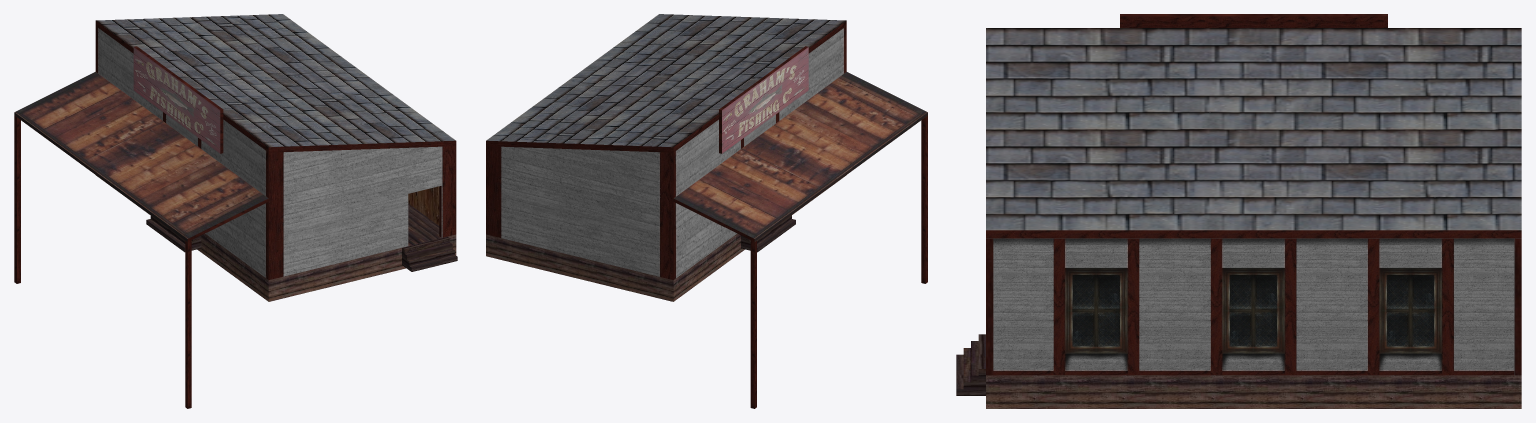
Rendered from fishShack.gltf.
3 views of the same model, side by side, from view 1: azimuth 30°, elevation 25°; view 2: azimuth 150°, elevation 25°; view 3: azimuth 270°, elevation 25° (orthographic). The views are drawn at different scales.
Visible parts, largest first — view 1: fishShack; view 2: fishShack; view 3: fishShack.
Part boxes in pixels (bbox=[...]): fishShack: bbox=[14, 14, 457, 408]; fishShack: bbox=[486, 14, 927, 408]; fishShack: bbox=[956, 14, 1521, 408].
Bounding box in the file's own units: 16.12 × 14.25 × 19.
13 materials, 13 textured.
